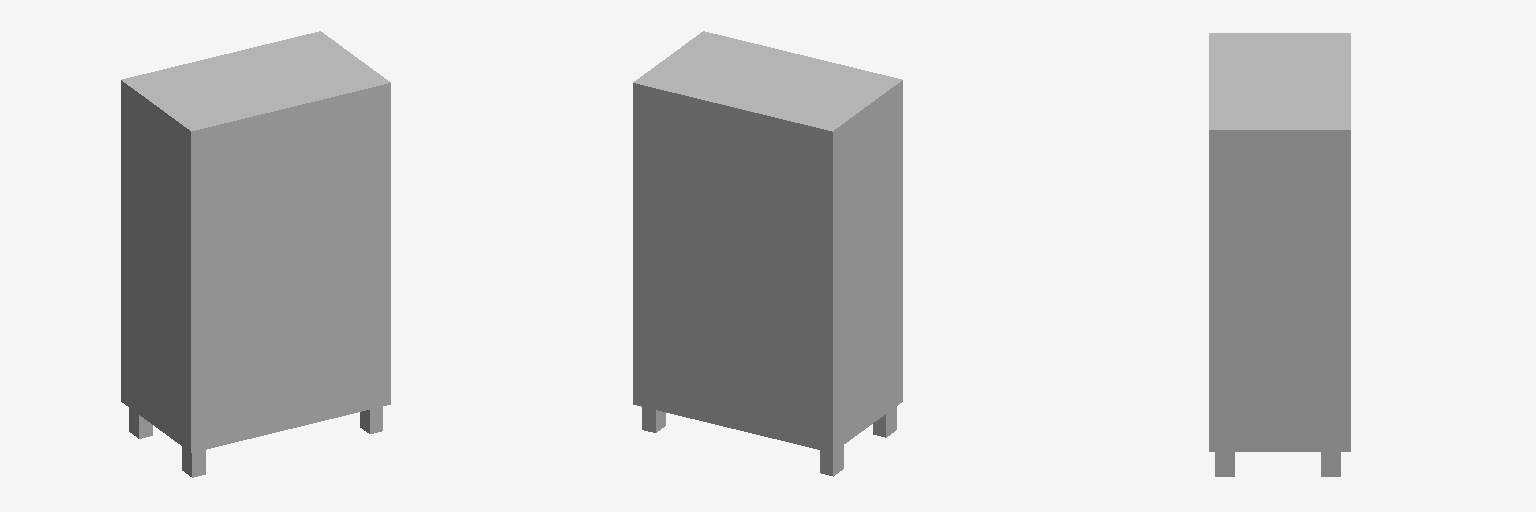
The model's file is cabinet.obj.
3 views of the same model, side by side, from view 1: azimuth 30°, elevation 25°; view 2: azimuth 150°, elevation 25°; view 3: azimuth 270°, elevation 25° (orthographic).
Parts seen in each view (by area): view 1: Box001; view 2: Box001; view 3: Box001.
Part boxes in pixels (x1,y1,x2,y2): Box001: (121,31,390,477); Box001: (633,31,902,476); Box001: (1209,33,1350,476).
Bounding box in the file's own units: 50.19 × 83.83 × 30.75.